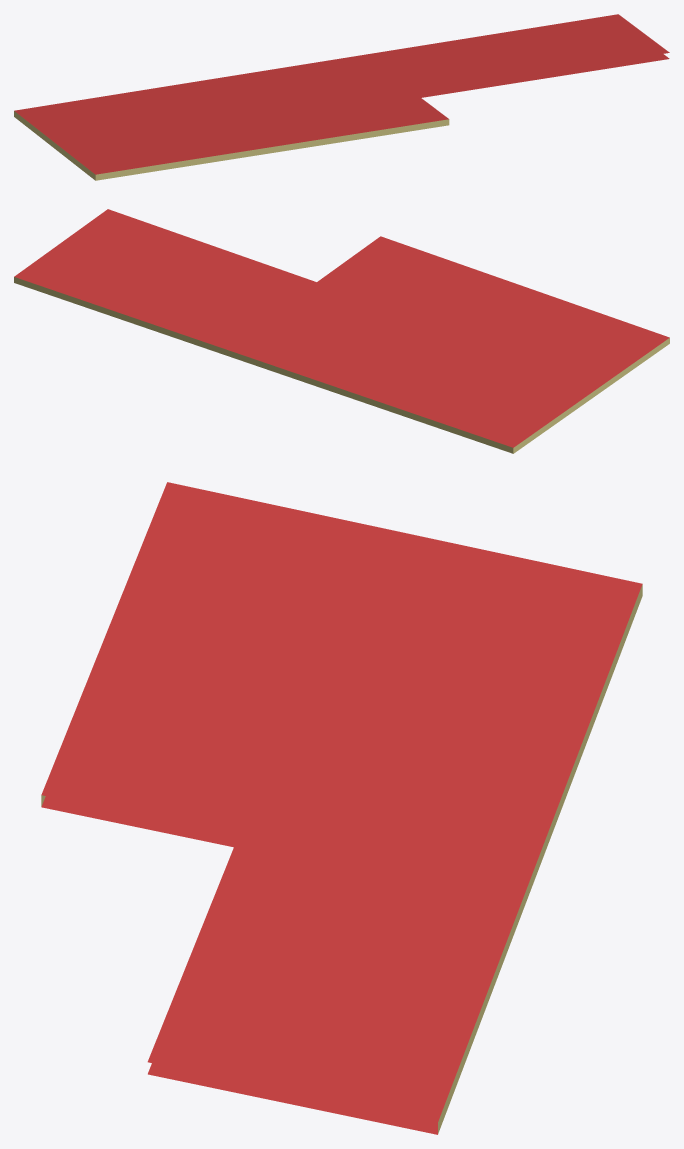
3 views of the same model, one above another, from view 1: azimuth 30°, elevation 25°; view 2: azimuth 150°, elevation 25°; view 3: azimuth 270°, elevation 25° (orthographic). The views are drawn at different scales.
Size of the model in its own units: 10.14 by 4.49 by 0.648.
